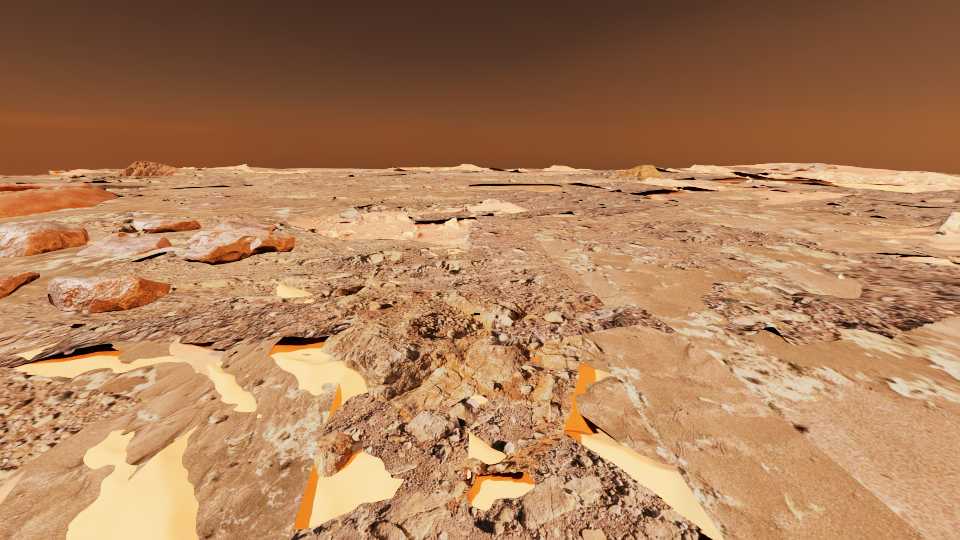bedrock: (0, 244, 702, 539), (605, 220, 959, 347), (262, 168, 683, 220), (707, 180, 959, 226), (33, 173, 254, 196), (657, 251, 762, 270), (109, 222, 193, 243), (328, 169, 533, 177), (660, 172, 734, 183), (526, 226, 576, 241), (372, 184, 482, 190), (463, 178, 586, 183), (172, 168, 241, 176), (289, 234, 337, 245), (723, 167, 792, 174), (692, 195, 776, 200), (563, 246, 615, 251), (296, 169, 378, 172), (217, 175, 286, 178), (28, 294, 48, 301), (87, 236, 107, 243), (0, 182, 38, 184), (587, 267, 601, 271), (200, 224, 218, 226), (156, 198, 169, 200)
hole: (718, 181, 740, 183)
rocks: (180, 220, 295, 264), (47, 275, 170, 313), (0, 219, 89, 256), (76, 232, 171, 255), (0, 272, 39, 298), (133, 218, 200, 233), (119, 161, 179, 177), (619, 165, 662, 178), (769, 163, 836, 171), (131, 252, 166, 261)
sand: (534, 235, 959, 539), (0, 336, 403, 539), (0, 177, 465, 224), (629, 190, 934, 254), (0, 244, 187, 309), (694, 184, 858, 206), (467, 472, 534, 509), (721, 163, 818, 176), (468, 431, 505, 463), (824, 165, 905, 177), (827, 182, 920, 192), (468, 183, 566, 192), (16, 342, 58, 359), (227, 167, 330, 173), (277, 284, 321, 297), (771, 310, 810, 321), (925, 245, 959, 255), (0, 328, 37, 337), (182, 226, 216, 235), (308, 176, 377, 180), (368, 167, 412, 172), (365, 267, 376, 282), (470, 395, 487, 403), (71, 323, 84, 327), (530, 357, 539, 361)
soil: (91, 208, 716, 278), (0, 367, 147, 482), (0, 284, 252, 332), (144, 170, 607, 191), (0, 175, 161, 218), (172, 192, 432, 210), (656, 189, 837, 212), (853, 223, 959, 240), (876, 242, 955, 261), (57, 219, 137, 236), (783, 177, 911, 186), (167, 214, 276, 222), (0, 470, 25, 503), (872, 197, 959, 206), (317, 271, 369, 285), (750, 174, 806, 181), (670, 169, 724, 176), (373, 275, 417, 282), (705, 170, 747, 177), (411, 168, 456, 174), (705, 178, 748, 184), (82, 169, 124, 175), (526, 205, 571, 210), (936, 179, 959, 188), (272, 168, 328, 171), (769, 187, 808, 191), (404, 187, 435, 191), (244, 191, 300, 193), (659, 188, 692, 191), (305, 266, 335, 269), (479, 169, 509, 172), (204, 168, 243, 170), (555, 170, 592, 172), (555, 183, 583, 185), (412, 211, 430, 214), (488, 199, 498, 203)
